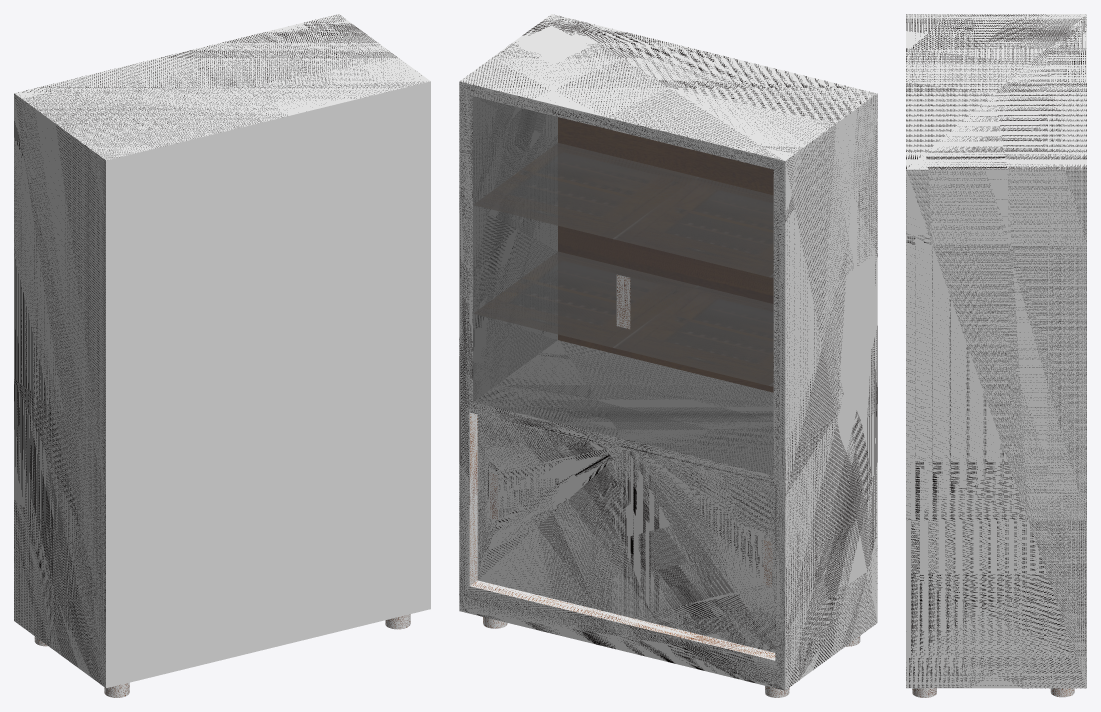
3 views of the same model, side by side, from view 1: azimuth 30°, elevation 25°; view 2: azimuth 150°, elevation 25°; view 3: azimuth 270°, elevation 25° (orthographic). The views are drawn at different scales.
Parts seen in each view (by area): view 1: mesh1_mesh1-geometry; view 2: mesh1_mesh1-geometry; view 3: mesh1_mesh1-geometry.
Boxes of the visible parts, x1=… form: mesh1_mesh1-geometry: x1=14, y1=14, x2=430, y2=697; mesh1_mesh1-geometry: x1=459, y1=14, x2=877, y2=697; mesh1_mesh1-geometry: x1=906, y1=14, x2=1086, y2=697.
Size of the model in its own units: 0.5128 by 0.8208 by 0.2516.
